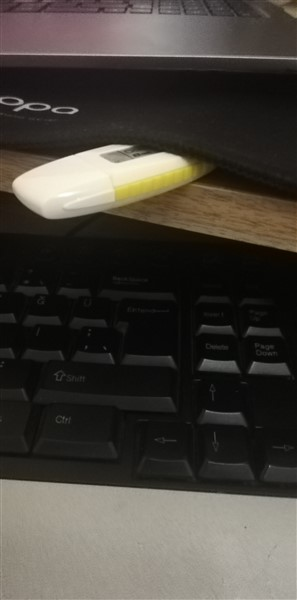flash disk: (11, 127, 244, 221)
klavye: (3, 228, 297, 543)
